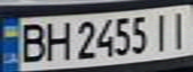2: (75, 17, 96, 61)
4: (93, 16, 118, 58)
5: (130, 12, 154, 55), (112, 15, 133, 56)
B: (15, 20, 48, 64)
H: (42, 18, 72, 62)
I: (166, 7, 193, 51), (148, 9, 175, 52)
